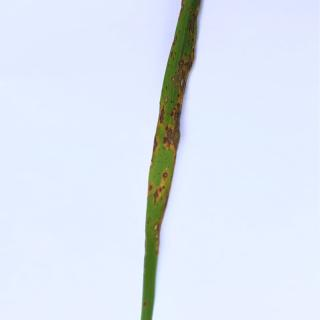Blast: (153, 101, 187, 123), (170, 56, 191, 90), (149, 216, 166, 248), (149, 181, 167, 202), (156, 162, 171, 182), (151, 138, 165, 156), (163, 123, 176, 139)
